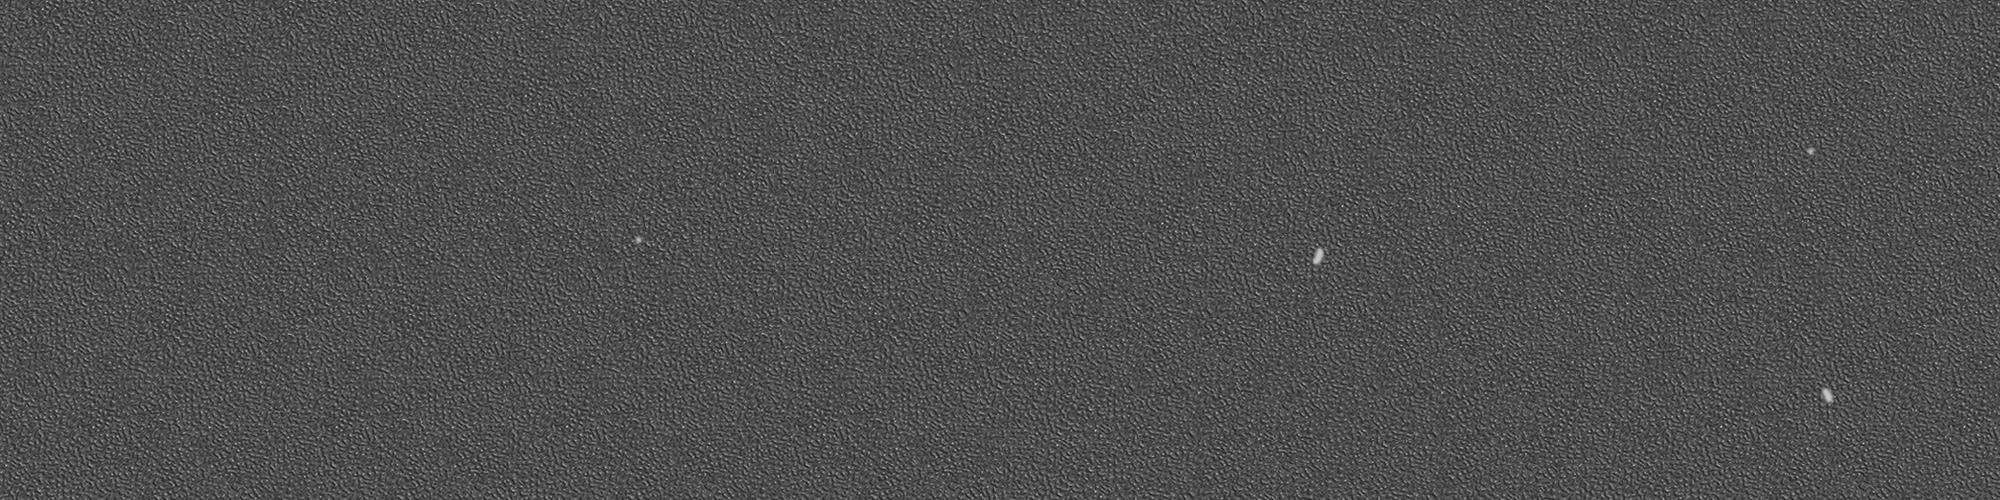Particles: (1815, 383, 1837, 408), (1306, 244, 1327, 267), (631, 233, 648, 247), (1805, 143, 1818, 159)
